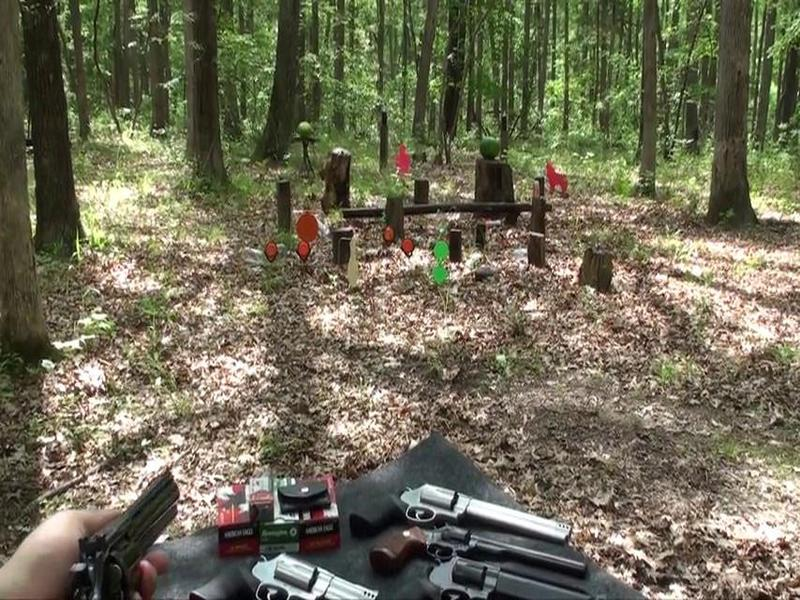Revolver: (15, 454, 202, 600)
